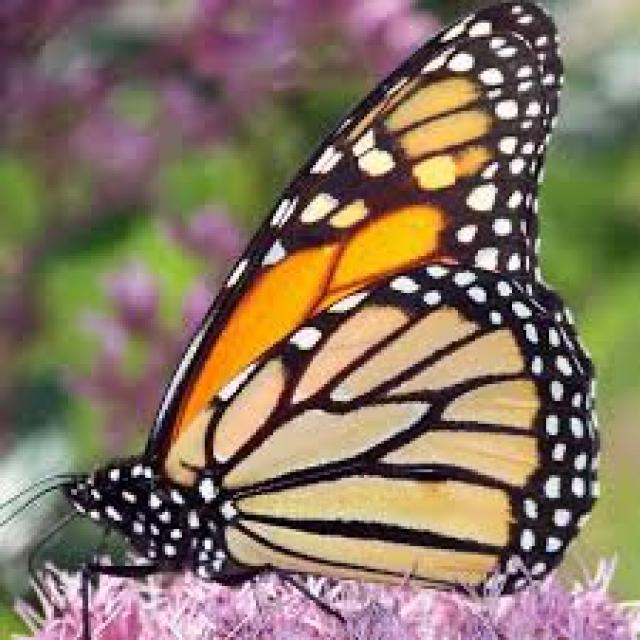butterfly: (148, 112, 554, 596)
